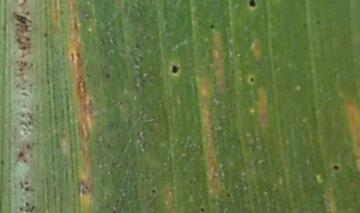tarspot: (171, 64, 180, 75), (247, 1, 258, 8), (198, 206, 207, 213), (247, 76, 256, 83), (41, 32, 50, 39), (333, 163, 340, 171), (105, 71, 113, 78), (151, 187, 158, 194), (208, 23, 215, 30), (316, 19, 323, 25), (1, 158, 5, 165), (189, 179, 194, 184), (225, 192, 231, 196)
